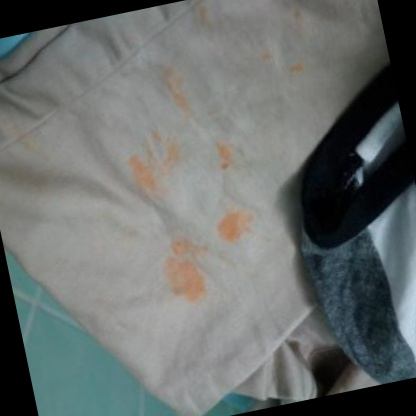kimchi: (149, 232, 220, 316), (123, 125, 188, 197), (0, 104, 58, 172), (210, 201, 264, 248), (162, 57, 194, 117), (209, 133, 236, 174), (283, 53, 311, 79), (190, 5, 213, 30), (261, 45, 276, 64), (293, 8, 308, 24)
